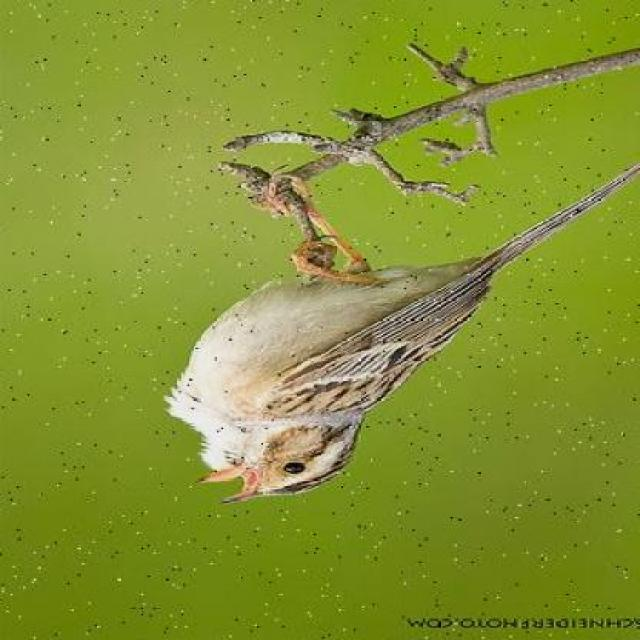Bird: (160, 163, 637, 510)
